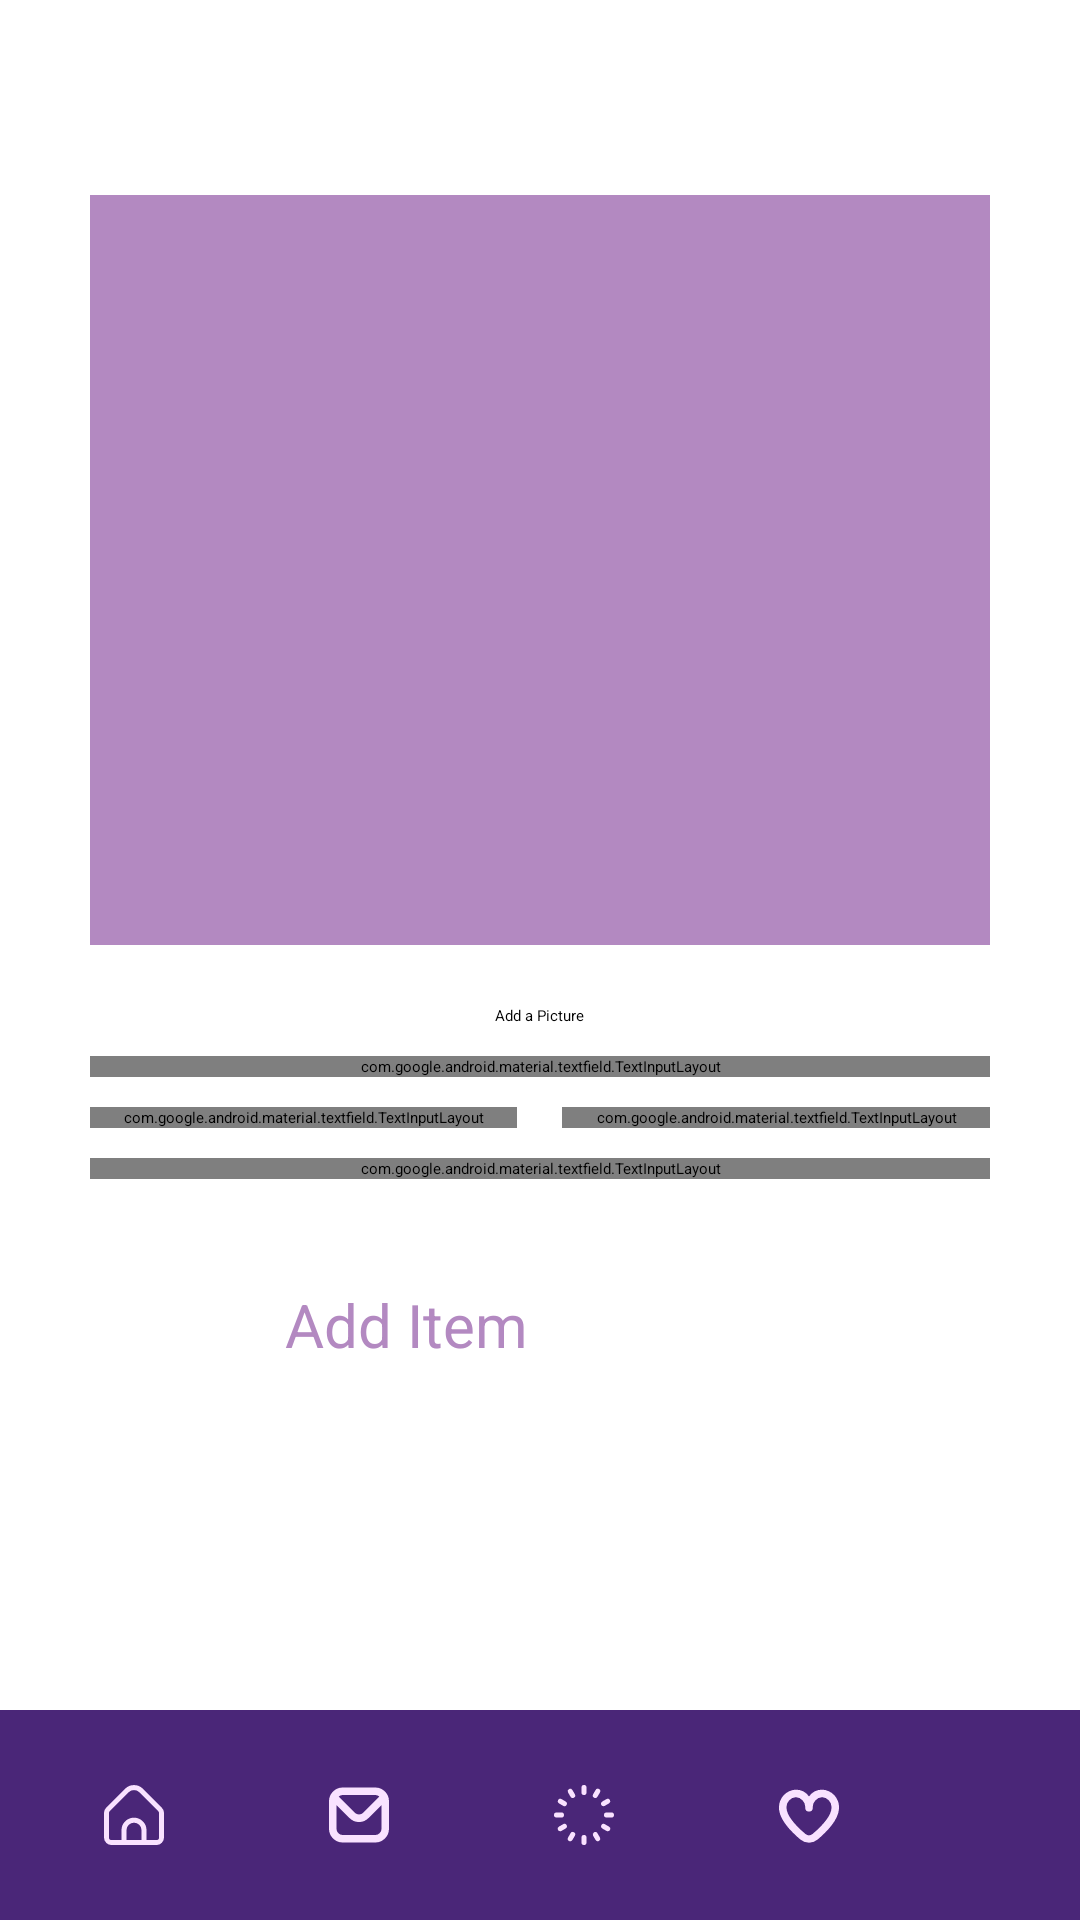

Icon bounding boxes for this 1080*1920 phone screenshot, format (x1, y1, x2, y2):
home: (104, 1785, 164, 1845)
messages: (329, 1787, 389, 1843)
wishlist: (779, 1789, 839, 1843)
